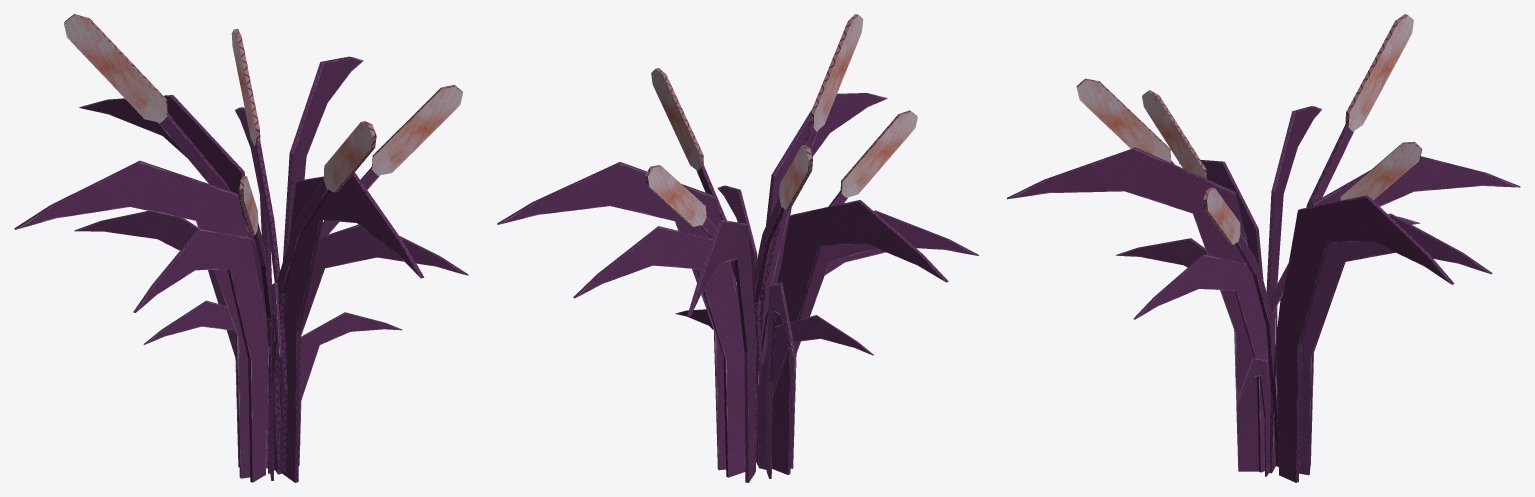
Rendered from Purple Fontain Grass.fbx.
3 views of the same model, side by side, from view 1: azimuth 30°, elevation 25°; view 2: azimuth 150°, elevation 25°; view 3: azimuth 270°, elevation 25° (orthographic). The views are drawn at different scales.
Visible parts, largest first — view 1: Purple Fontain Grass; view 2: Purple Fontain Grass; view 3: Purple Fontain Grass.
Part boxes in pixels (x1,y1,x2,y2): Purple Fontain Grass: [14, 14, 468, 482]; Purple Fontain Grass: [497, 14, 978, 482]; Purple Fontain Grass: [1007, 14, 1520, 482].
Size of the model in its own units: 3.63 by 3.56 by 4.18.
